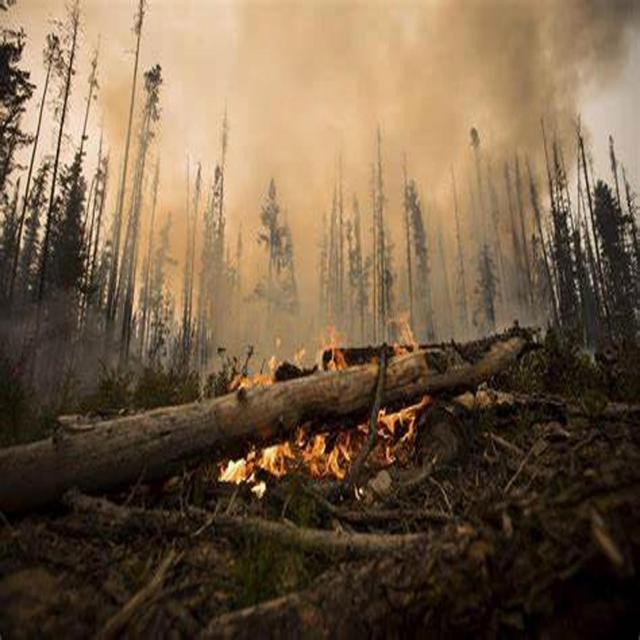Fire: (230, 442, 300, 490), (314, 316, 351, 374), (234, 363, 289, 388)
Smoke: (162, 42, 516, 308)
